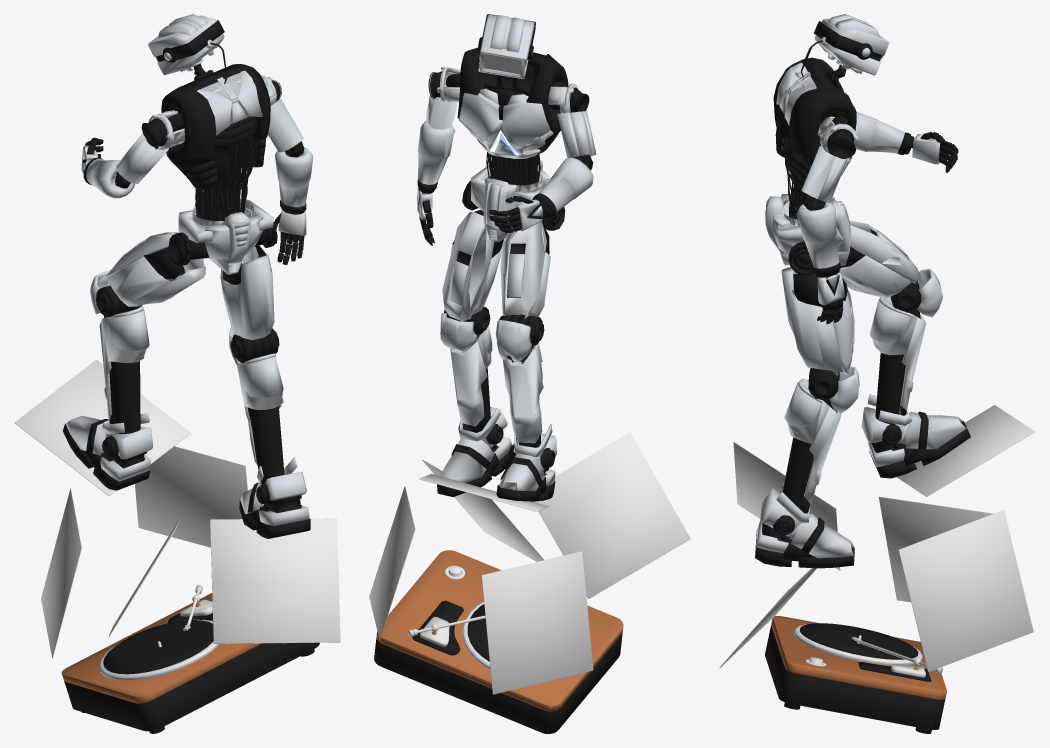
The picture shows the model from 3 angles, left to right: view 1: azimuth 30°, elevation 25°; view 2: azimuth 150°, elevation 25°; view 3: azimuth 270°, elevation 25°; orthographic projection. The views are drawn at different scales.
Parts seen in each view (by area): view 1: vinyls.006, vinyls.007; view 2: vinyls.006, vinyls.007; view 3: vinyls.006, vinyls.007.
Part boxes in pixels (box(x1,y1,x2,y2)): vinyls.006: box(61, 14, 319, 733); vinyls.007: box(14, 360, 340, 657); vinyls.006: box(374, 14, 623, 733); vinyls.007: box(369, 54, 690, 694); vinyls.006: box(755, 14, 970, 733); vinyls.007: box(719, 405, 1035, 671).
Bounding box in the file's own units: 3.88 × 10.21 × 4.14.
